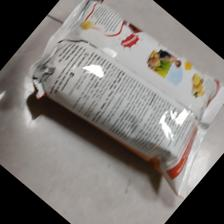Lays: (26, 1, 224, 204)
